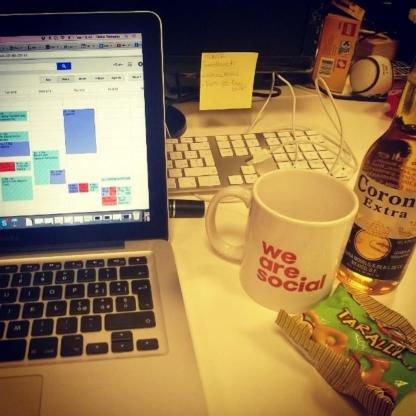board: (0, 13, 205, 416)
